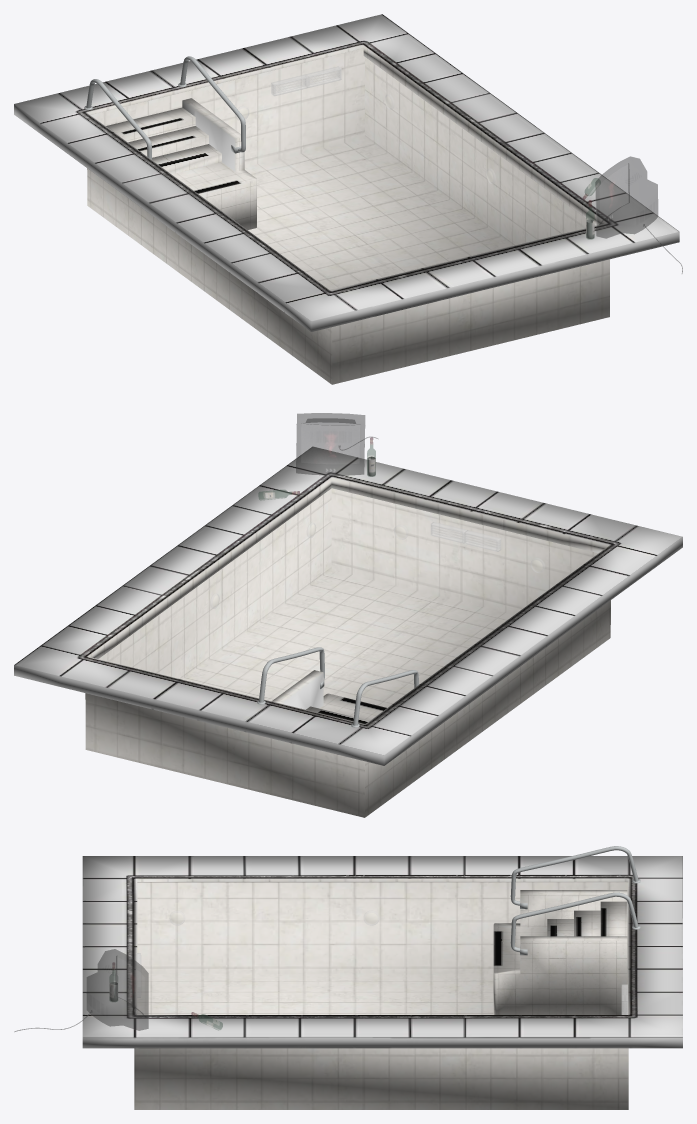
File: pool.glb
3 renders of one model, top to bottom at view 1: azimuth 30°, elevation 25°; view 2: azimuth 150°, elevation 25°; view 3: azimuth 270°, elevation 25°, orthographic.
Parts seen in each view (by area): view 1: Object_4, Object_3; view 2: Object_4, Object_3; view 3: Object_4, Object_3.
Boxes of the visible parts, left/top/right/bottom form: Object_4: left=14, top=14, right=682, bottom=384; Object_3: left=235, top=66, right=682, bottom=273; Object_4: left=14, top=438, right=682, bottom=817; Object_3: left=210, top=413, right=544, bottom=608; Object_4: left=20, top=846, right=682, bottom=1109; Object_3: left=14, top=910, right=627, bottom=1031.
Bounding box in the file's own units: 338 × 131 × 526.
2 materials, 2 textured.
